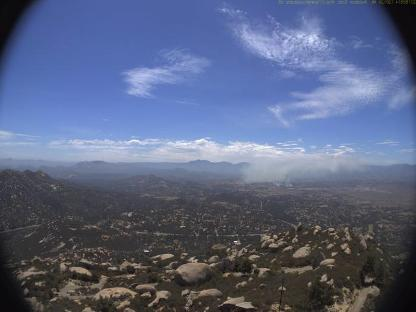smoke: (240, 147, 367, 187)
